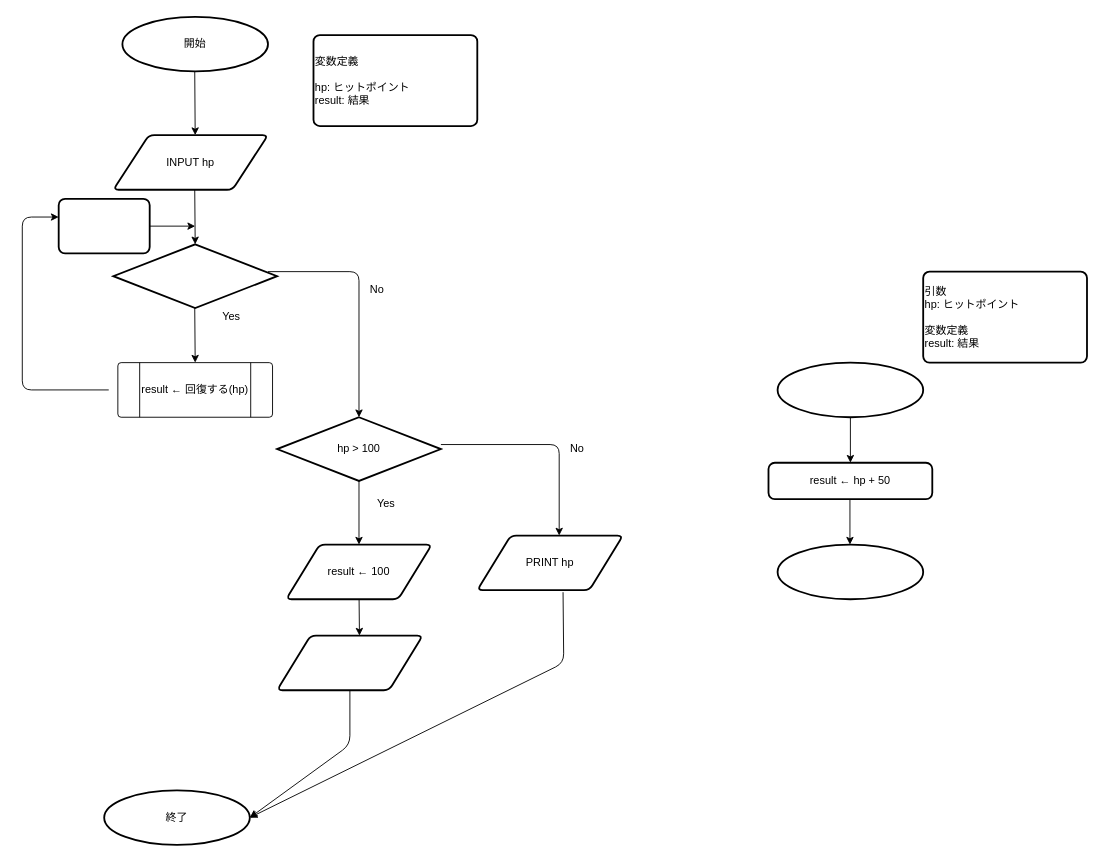
Some shapes in this 1104 by 861 pixel diagram are drawn without their labels. The shapes that lost their labels are listed below. From the top down, each one's box as (x1, y1, x2, y2) in pixels, then its label:
(57, 197, 150, 254): hp ←result
(112, 243, 278, 308): hp < 30
(776, 361, 924, 418): 回復する
(776, 543, 924, 600): RTN result
(276, 634, 423, 691): PRINT result
